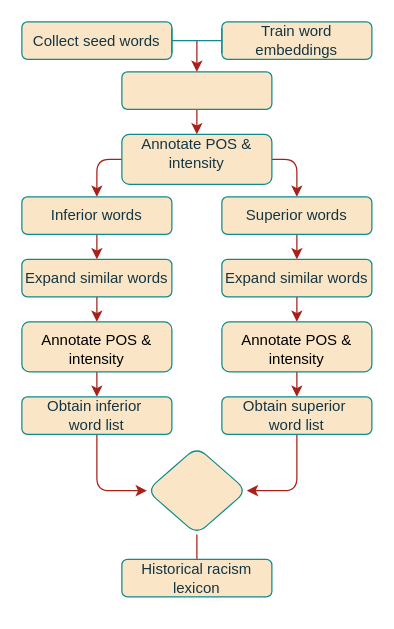
Image size: 394x629. Some labels were removed from this diagram. The shapes that lost their labels are listed below. From the top down, each one's box as (x1, y1, x2, y2) in pixels, then its label:
(121, 71, 272, 109): filter seed words
(146, 446, 247, 534): Merge
